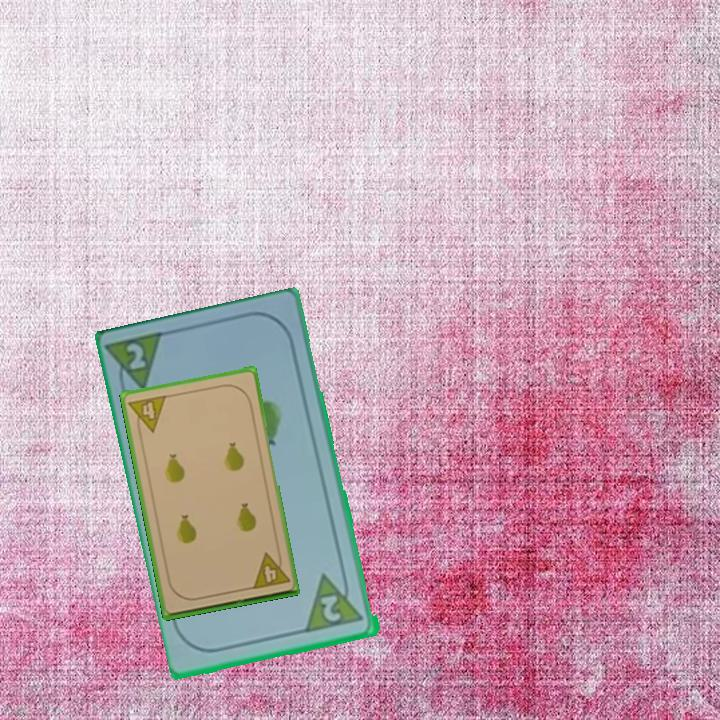2p: (106, 329, 170, 401), (303, 567, 367, 636)
4p: (125, 391, 169, 437), (248, 548, 292, 592)
